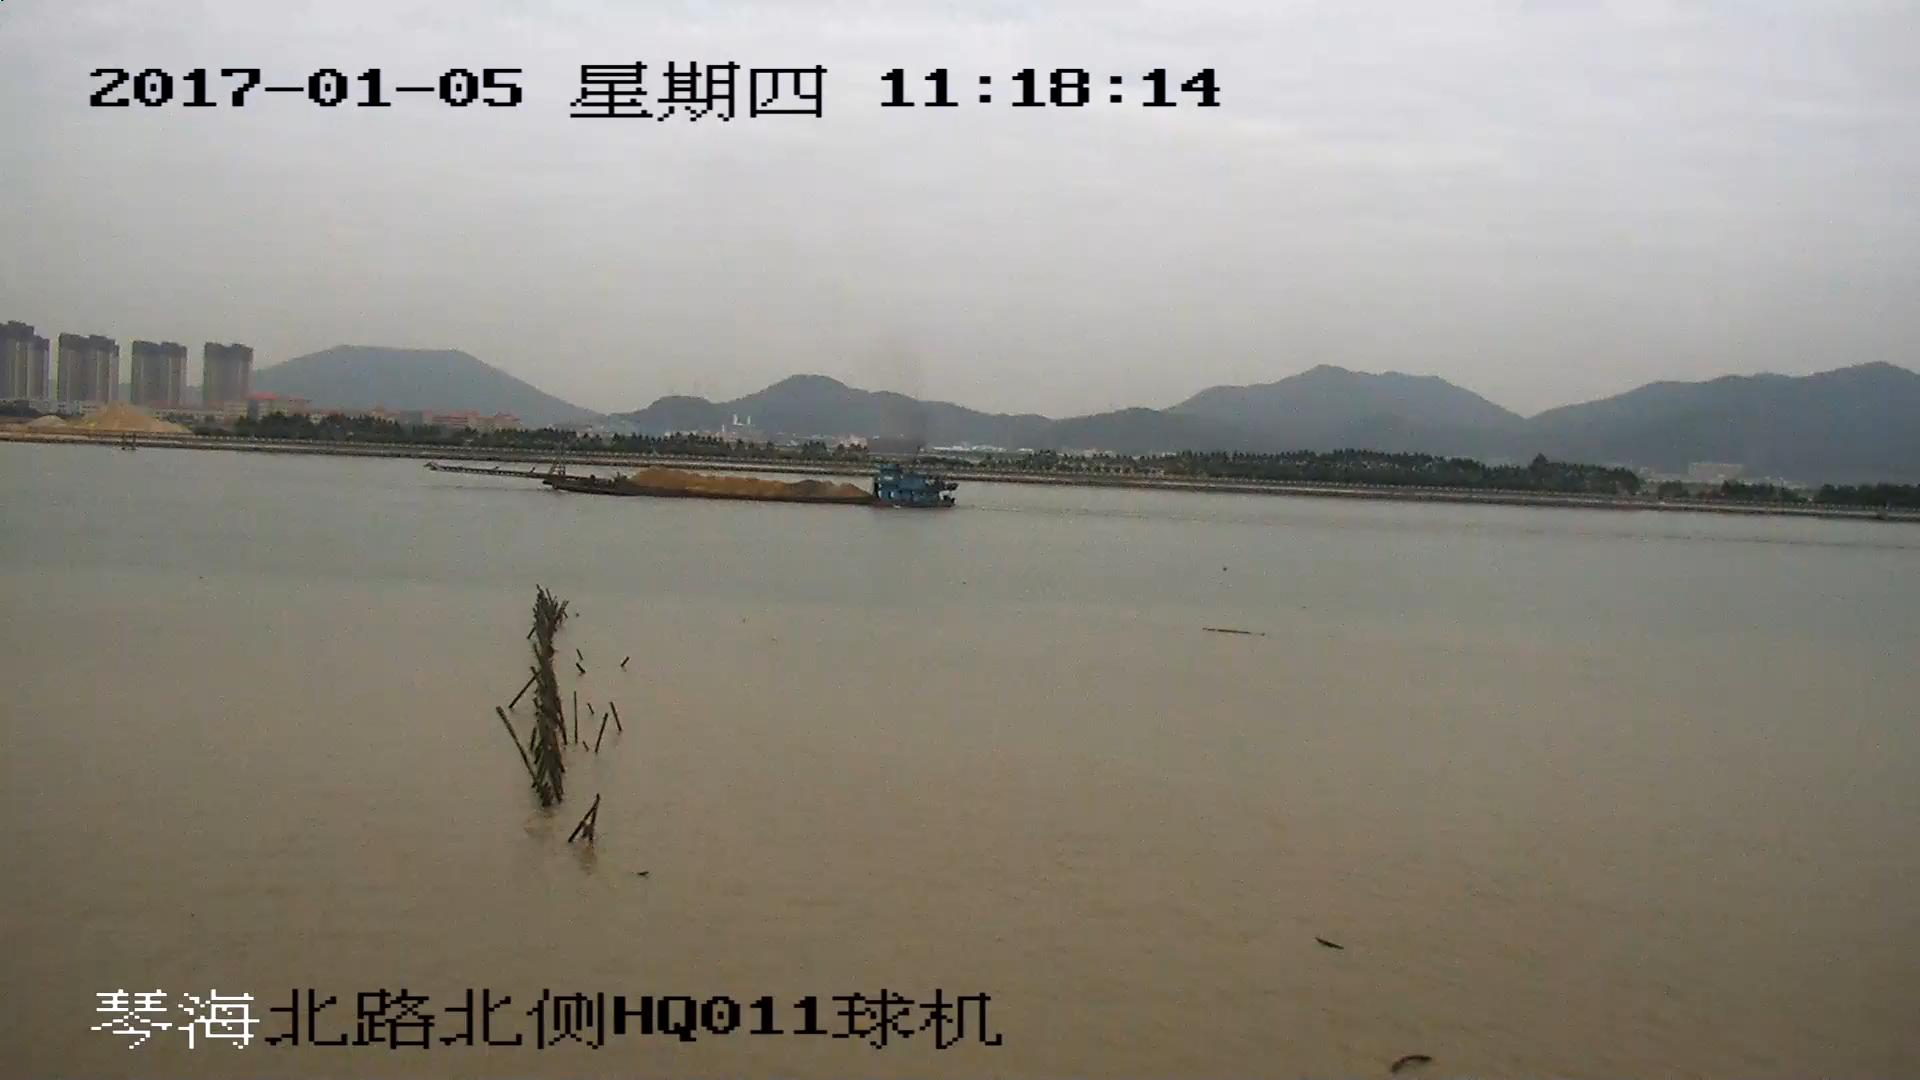ore carrier: (436, 438, 950, 510)
